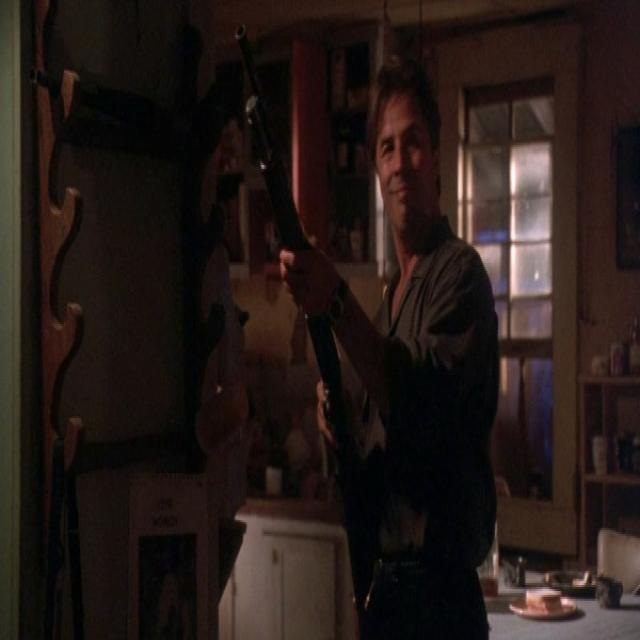rifle: (234, 12, 379, 619)
